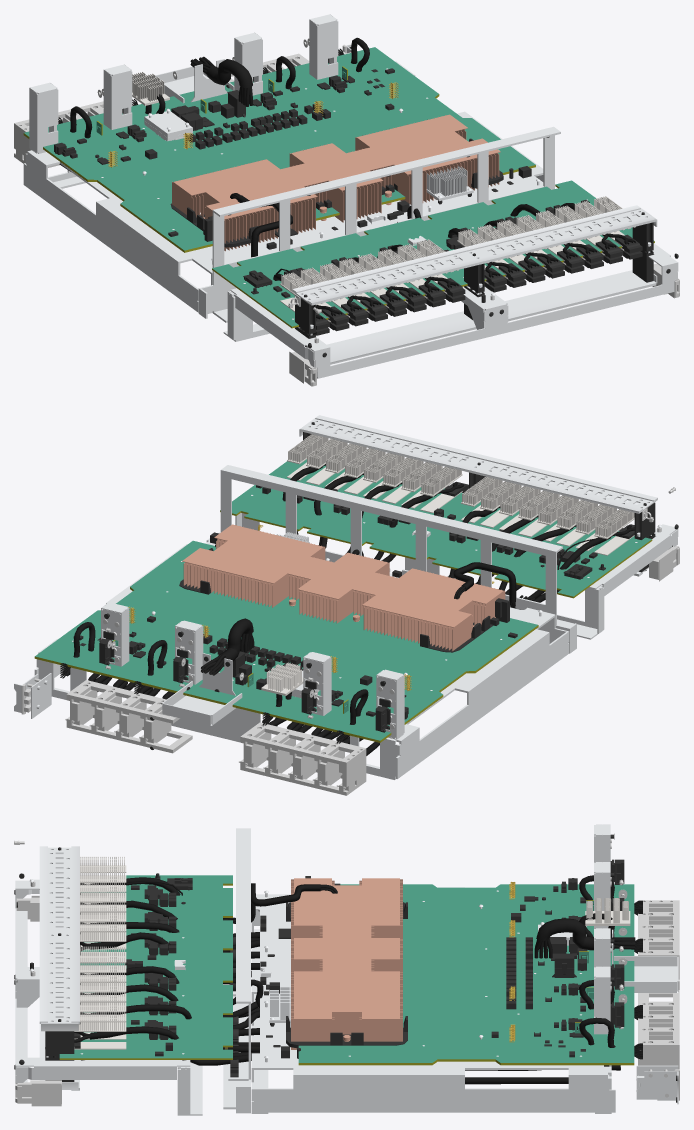
The model's file is sidecar-int-1.glb.
The picture shows the model from 3 angles, top to bottom: view 1: azimuth 30°, elevation 25°; view 2: azimuth 150°, elevation 25°; view 3: azimuth 270°, elevation 25°; orthographic projection. The views are drawn at different scales.
Parts seen in each view (by area): view 1: Plane.051, Plane.056, Cube.22815, Cube.22778, Cube.22814, NurbsPath.008, Cube.22812, NurbsPath.009, Cube.23625; view 2: Plane.056, Plane.051, Cube.22778, Cube.22814, Cube.22812, Cube.22815, NurbsPath.008, NurbsPath.009, Cube.23625; view 3: Plane.056, Plane.051, Cube.22778, Cube.22815, Cube.22814, NurbsPath.008, Cube.22812, NurbsPath.009, Cube.23625, OXC230-0000008_PTH.015.
Boxes of the visible parts, left/top/right/bottom form: Plane.051: left=23, top=14, right=678, bottom=378; Plane.056: left=23, top=47, right=654, bottom=328; Cube.22815: left=54, top=47, right=678, bottom=357; Cube.22778: left=172, top=114, right=500, bottom=251; Cube.22814: left=132, top=71, right=635, bottom=321; NurbsPath.008: left=59, top=56, right=635, bottom=323; Cube.22812: left=14, top=38, right=679, bottom=386; NurbsPath.009: left=58, top=37, right=421, bottom=312; Cube.23625: left=170, top=138, right=503, bottom=247; Plane.056: left=34, top=459, right=652, bottom=742; Plane.051: left=14, top=415, right=678, bottom=779; Cube.22778: left=182, top=524, right=505, bottom=651; Cube.22814: left=261, top=434, right=634, bottom=695; Cube.22812: left=21, top=487, right=679, bottom=795; Cube.22815: left=73, top=422, right=678, bottom=749; NurbsPath.008: left=65, top=464, right=634, bottom=755; NurbsPath.009: left=60, top=539, right=593, bottom=743; Cube.23625: left=179, top=548, right=493, bottom=652; Plane.056: left=59, top=875, right=634, bottom=1065; Plane.051: left=15, top=824, right=678, bottom=1115; Cube.22778: left=291, top=878, right=402, bottom=1049; Cube.22815: left=14, top=834, right=677, bottom=1102; Cube.22814: left=74, top=856, right=630, bottom=1049; NurbsPath.008: left=74, top=877, right=635, bottom=1084; Cube.22812: left=14, top=838, right=679, bottom=1106; NurbsPath.009: left=117, top=875, right=642, bottom=1059; Cube.23625: left=286, top=902, right=407, bottom=1048; OXC230-0000008_PTH.015: left=225, top=881, right=515, bottom=1049.
Size of the model in its own units: 17490 by 4679 by 26214.
